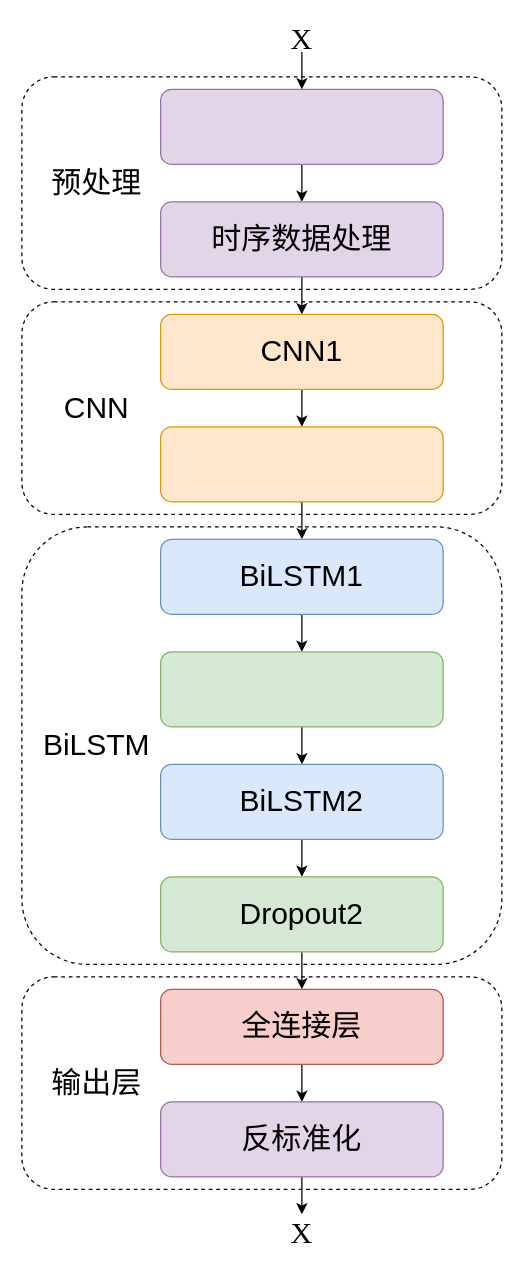
The diagram is 524 pixels wide and 1274 high, and some of its shapes have lost their labels. The shapes that lost their labels are listed below. From the top down, each one's centre as x and y in pixels, then its label:
At (x=301, y=126): "标准化".
At (x=301, y=464): "CNN2".
At (x=301, y=689): "Dropout1".
